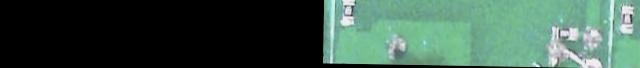chip-resistor: (620, 4, 632, 32), (340, 0, 353, 25), (551, 26, 577, 38)
